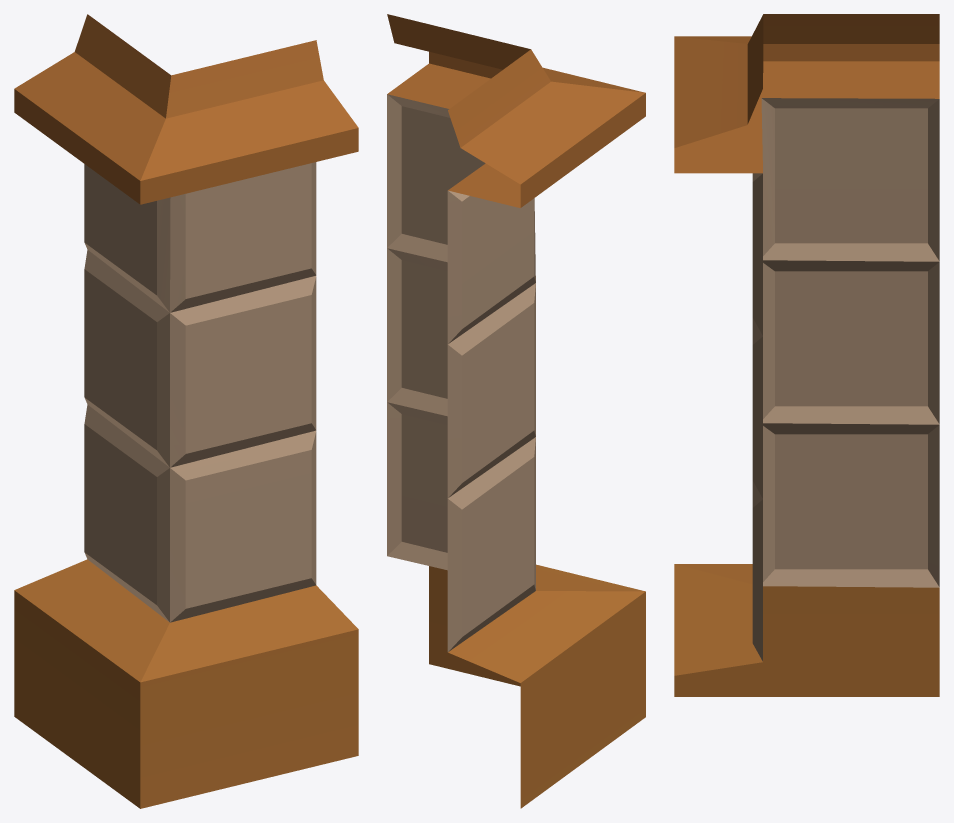
File: corner_wall_bumb_inside_B.fbx
3 renders of one model, left to right at view 1: azimuth 30°, elevation 25°; view 2: azimuth 150°, elevation 25°; view 3: azimuth 270°, elevation 25°, orthographic. The views are drawn at different scales.
Visible parts, largest first — view 1: corner_wall_bumb_inside_B; view 2: corner_wall_bumb_inside_B; view 3: corner_wall_bumb_inside_B.
Boxes of the visible parts, x1,y1,x2,y2 form: corner_wall_bumb_inside_B: (14, 14, 358, 808); corner_wall_bumb_inside_B: (387, 14, 645, 808); corner_wall_bumb_inside_B: (674, 14, 939, 696).
Bounding box in the file's own units: 100 × 300 × 100.
